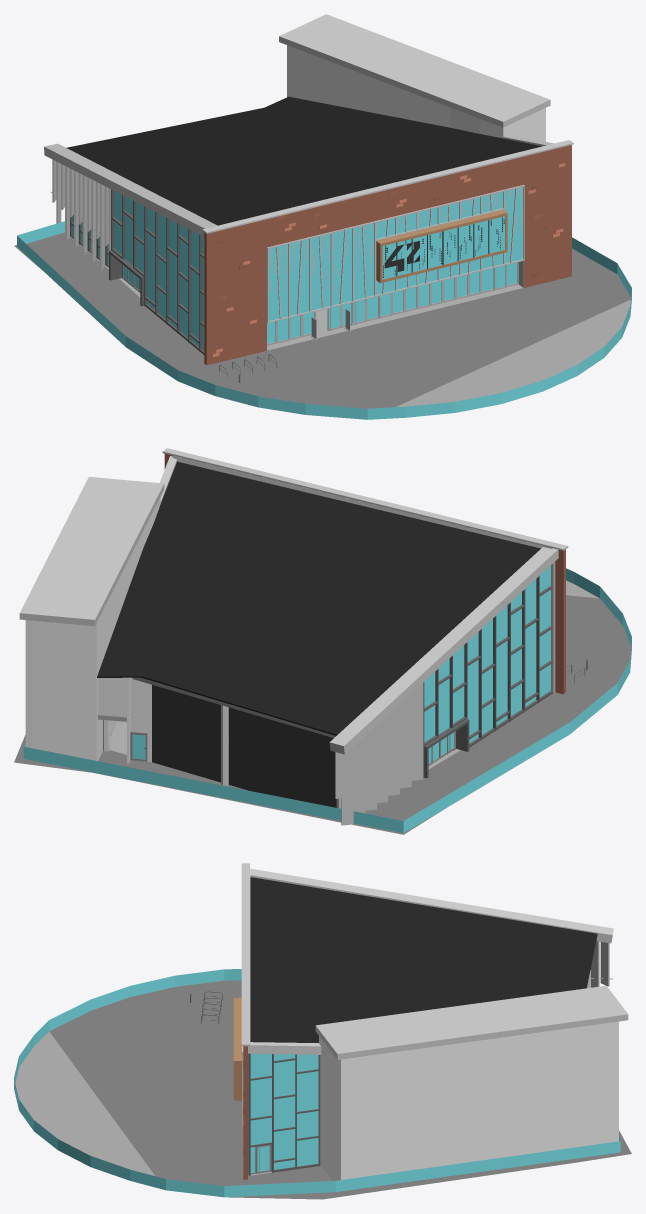
File: 42WOB_v6.glb
3 renders of one model, top to bottom at view 1: azimuth 30°, elevation 25°; view 2: azimuth 150°, elevation 25°; view 3: azimuth 270°, elevation 25°, orthographic. The views are drawn at different scales.
Visible parts, largest first — view 1: Ground.003, Cube.3463, Cube.3265, Plane.251, Cube.3457, EndWall_NOCOL.001, Cube.3456, Ground.004, Plane.267, Plane.252, Cube.3367, Cube.3462 (+10 smaller); view 2: Cube.3463, Ground.003, Cube.3456, Cube.3457, EndWall_NOCOL.001, Cube.717, Plane.267, Cube.3462, Cube.716, Cube.3369, Cube.3367, Cube.3266 (+10 smaller); view 3: Cube.3463, Cube.3456, Ground.003, Cube.3457, EndWall_NOCOL.001, Ground.004, Plane.270, Cube.3462, Cube.3266, Cube.3404, Cube.3268, Cube.3464 (+1 smaller).
Boxes of the visible parts, box(x1,y1,x2,y2) form: Ground.003: box(14, 232, 630, 408); Cube.3463: box(66, 96, 541, 225); Cube.3265: box(204, 145, 571, 365); Plane.251: box(268, 187, 522, 320); Cube.3457: box(279, 14, 550, 127); EndWall_NOCOL.001: box(17, 221, 631, 419); Cube.3456: box(287, 45, 545, 141); Ground.004: box(395, 299, 630, 407); Plane.267: box(147, 208, 204, 350); Plane.252: box(382, 216, 505, 279); Cube.3367: box(111, 189, 202, 351); Cube.3462: box(44, 143, 217, 236); Cube.3463: box(97, 461, 540, 735); Ground.003: box(14, 595, 631, 834); Cube.3456: box(25, 497, 160, 760); Cube.3457: box(19, 476, 164, 626); EndWall_NOCOL.001: box(23, 568, 631, 833); Cube.717: box(228, 707, 336, 807); Plane.267: box(467, 565, 550, 743); Cube.3462: box(329, 547, 558, 754); Cube.716: box(152, 685, 220, 782); Cube.3369: box(341, 683, 423, 825); Cube.3367: box(423, 576, 539, 777); Cube.3266: box(162, 448, 568, 550); Cube.3463: box(250, 877, 597, 1042); Cube.3456: box(319, 1021, 618, 1180); Ground.003: box(49, 980, 631, 1199); Cube.3457: box(315, 985, 628, 1059); EndWall_NOCOL.001: box(14, 969, 620, 1197); Ground.004: box(15, 1031, 154, 1175); Plane.270: box(250, 1053, 318, 1169); Cube.3462: box(250, 868, 613, 943); Cube.3266: box(241, 863, 249, 1046); Cube.3404: box(248, 1053, 320, 1176); Cube.3268: box(233, 998, 241, 1100); Cube.3464: box(248, 1042, 321, 1054).
Bounding box in the file's own units: 41.5 × 12.11 × 49.05.
